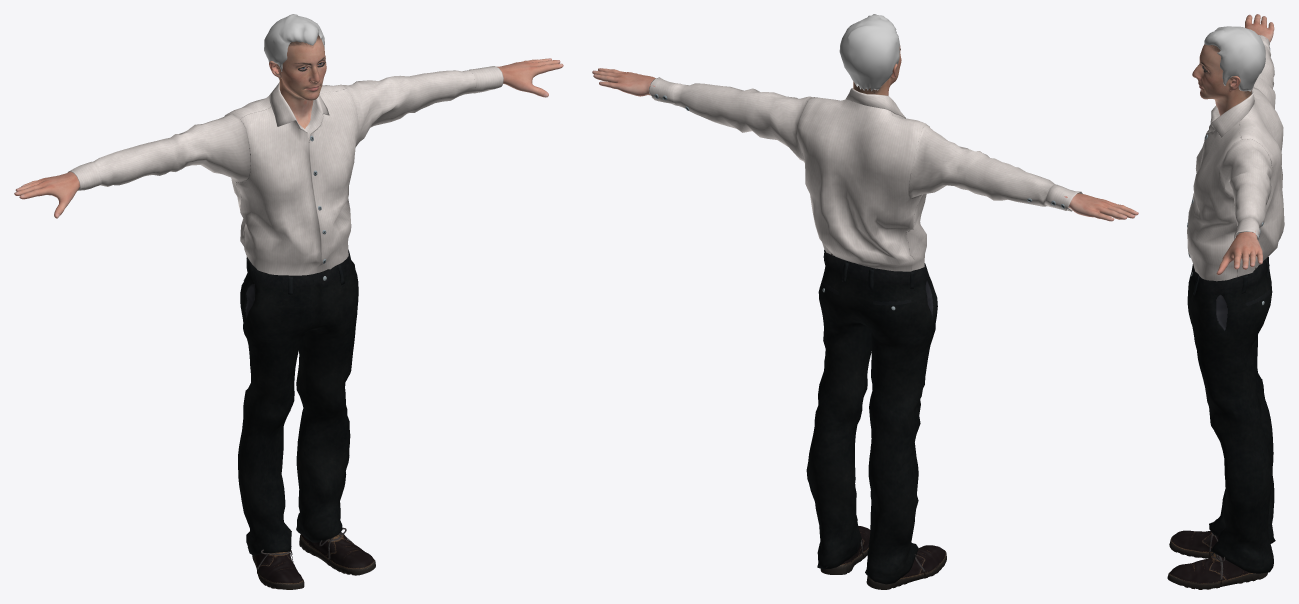
Rendered from Male-noHat2.obj.
3 views of the same model, side by side, from view 1: azimuth 30°, elevation 25°; view 2: azimuth 150°, elevation 25°; view 3: azimuth 270°, elevation 25° (orthographic). The views are drawn at different scales.
Parts seen in each view (by area): view 1: Tops, Bottoms, Body, Shoes, Hair; view 2: Tops, Bottoms, Hair, Body, Shoes; view 3: Bottoms, Tops, Body, Shoes, Hair.
Part boxes in pixels (<box>): Tops: <box>68,66,503,275</box>; Bottoms: <box>238,249,358,555</box>; Body: <box>14,35,563,273</box>; Shoes: <box>252,527,375,589</box>; Hair: <box>264,14,324,78</box>; Tops: <box>649,77,1082,271</box>; Bottoms: <box>806,249,937,584</box>; Hair: <box>839,14,899,90</box>; Body: <box>592,45,1138,254</box>; Shoes: <box>820,526,946,589</box>; Bottoms: <box>1187,257,1275,573</box>; Tops: <box>1187,35,1284,281</box>; Body: <box>1192,14,1274,274</box>; Shoes: <box>1167,530,1267,589</box>; Hair: <box>1204,26,1265,91</box>.
Bounding box in the file's own units: 195 × 188 × 37.08.
